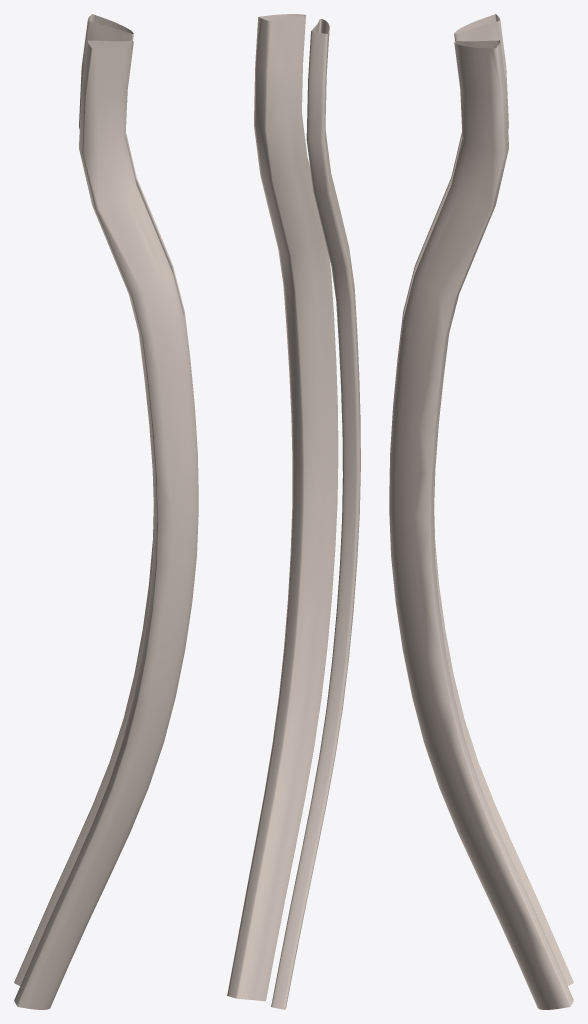
Rendered from nervoso-cuneate-fasciculus.glb.
3 renders of one model, left to right at view 1: azimuth 90°, elevation 25°; view 2: azimuth 150°, elevation 25°; view 3: azimuth 270°, elevation 25°, orthographic.
Parts seen in each view (by area): view 1: Cuneate fasciculus; view 2: Cuneate fasciculus; view 3: Cuneate fasciculus.
Boxes of the visible parts, left/top/right/bottom form: Cuneate fasciculus: left=14, top=14, right=198, bottom=1009; Cuneate fasciculus: left=227, top=14, right=360, bottom=1009; Cuneate fasciculus: left=389, top=14, right=573, bottom=1009.
Bounding box in the file's own units: 0.00775 × 0.1023 × 0.0176.
